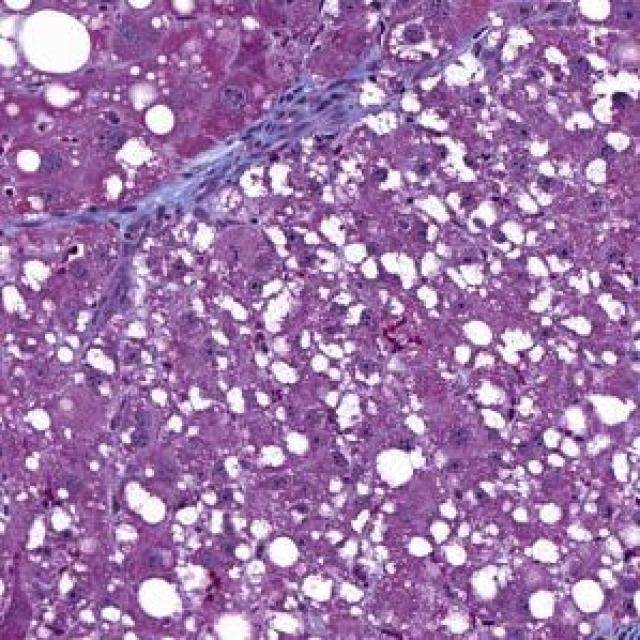fibrosis: (156, 114, 342, 205)
